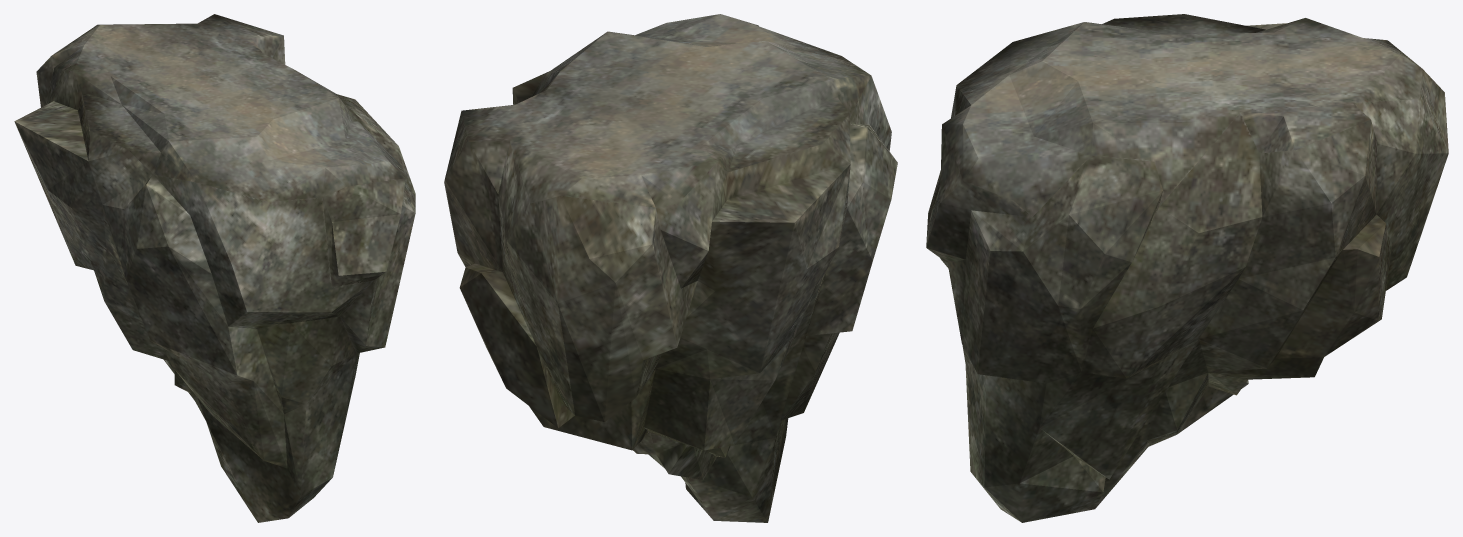
Rendered from bg_anh_mirrorv_bridge01_sm_old.FBX.
3 renders of one model, left to right at view 1: azimuth 30°, elevation 25°; view 2: azimuth 150°, elevation 25°; view 3: azimuth 270°, elevation 25°, orthographic. The views are drawn at different scales.
Parts seen in each view (by area): view 1: bg_anh_mirrorv_bridge01_sm_old; view 2: bg_anh_mirrorv_bridge01_sm_old; view 3: bg_anh_mirrorv_bridge01_sm_old.
Part boxes in pixels (x1,y1,x2,y2): bg_anh_mirrorv_bridge01_sm_old: [14, 14, 415, 522]; bg_anh_mirrorv_bridge01_sm_old: [444, 14, 897, 522]; bg_anh_mirrorv_bridge01_sm_old: [926, 14, 1448, 522].
Size of the model in its own units: 497 by 611 by 632.
